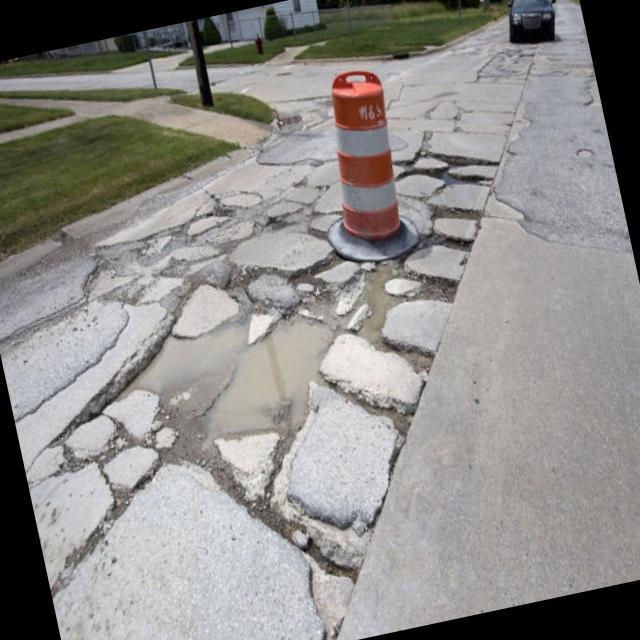Pothole: (167, 278, 335, 459), (420, 136, 488, 208), (356, 250, 408, 325), (188, 202, 244, 254), (262, 205, 294, 242)
